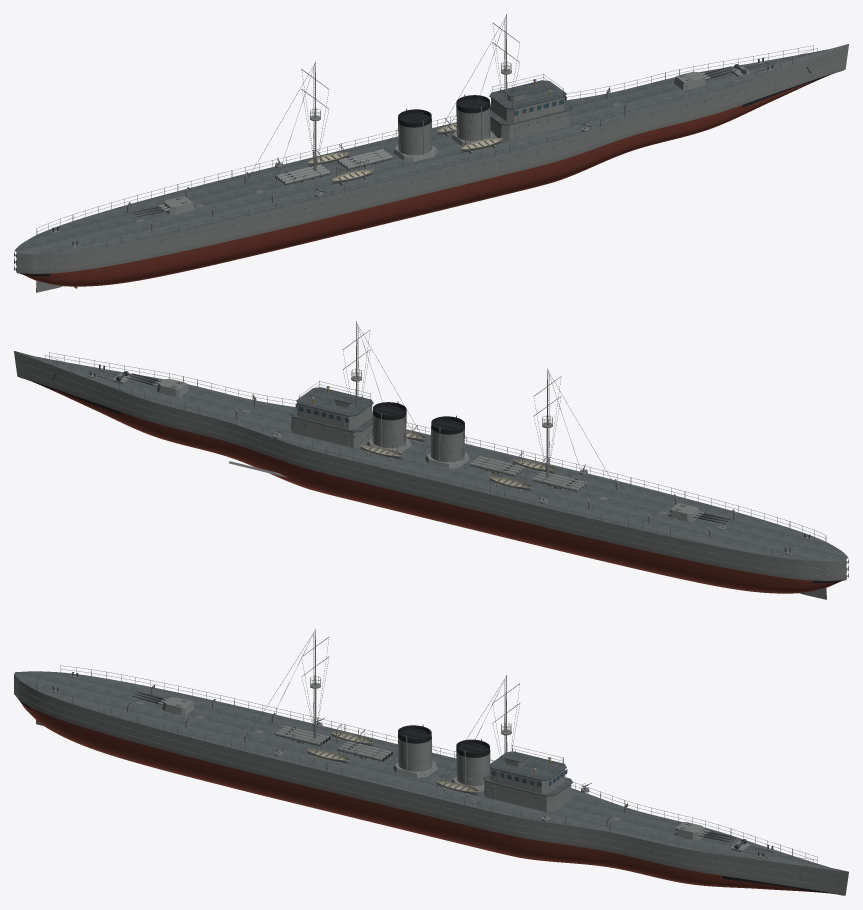
The model's file is kaze_t32.glb.
3 renders of one model, top to bottom at view 1: azimuth 30°, elevation 25°; view 2: azimuth 150°, elevation 25°; view 3: azimuth 330°, elevation 25°, orthographic.
Parts seen in each view (by area): view 1: Kaze class; view 2: Kaze class; view 3: Kaze class.
Boxes of the visible parts, bbox=[...] form: Kaze class: bbox=[14, 14, 848, 292]; Kaze class: bbox=[14, 321, 848, 599]; Kaze class: bbox=[14, 628, 848, 895].
Size of the model in its own units: 122 by 23.21 by 12.14.
Materials: 9 (8 with a texture image).
